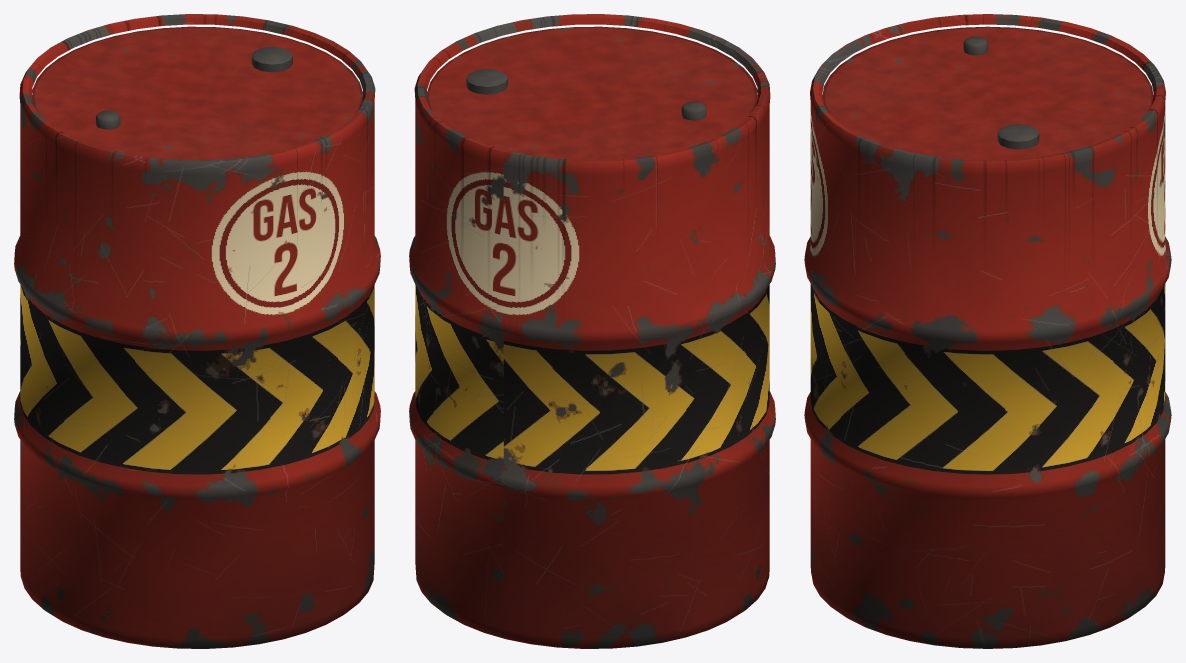
Rendered from gas2-drum.glb.
3 renders of one model, left to right at view 1: azimuth 30°, elevation 25°; view 2: azimuth 150°, elevation 25°; view 3: azimuth 270°, elevation 25°, orthographic.
Visible parts, largest first — view 1: drum; view 2: drum; view 3: drum.
Part boxes in pixels (bbox=[...]): drum: bbox=[14, 14, 380, 648]; drum: bbox=[409, 14, 775, 648]; drum: bbox=[804, 14, 1171, 648].
Bounding box in the file's own units: 0.6 × 0.882 × 0.6.
Materials: 1 (1 with a texture image).
